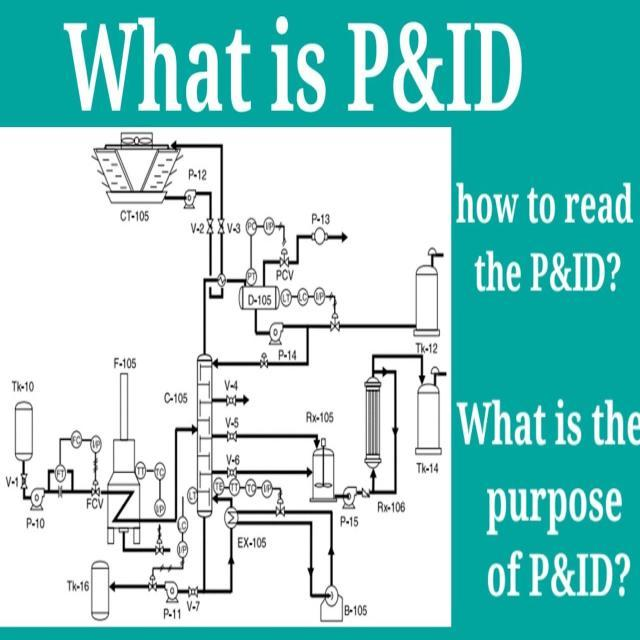Ball Valve: (186, 582, 200, 602), (225, 427, 238, 448), (224, 393, 239, 409), (227, 465, 240, 483)
Centrifugal Pump: (180, 184, 200, 213), (266, 317, 284, 348), (341, 480, 358, 510), (30, 486, 46, 515)
Gate Valve: (206, 214, 216, 240), (216, 213, 226, 236), (20, 473, 30, 491)
Orifice: (56, 483, 65, 505)
PRV: (430, 362, 448, 384)
Pneumatic-Diaphragm Gate Valve: (257, 350, 275, 378), (326, 309, 343, 338), (277, 244, 291, 268), (274, 494, 287, 518), (146, 573, 159, 595), (91, 478, 102, 498), (154, 539, 164, 556)
